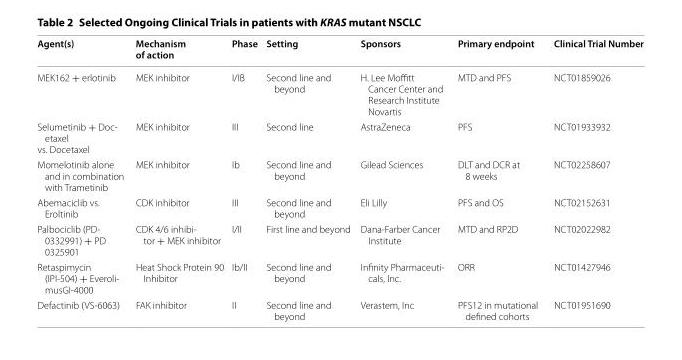table: (36, 36, 642, 321)
table column: (129, 36, 227, 321), (545, 36, 642, 321), (354, 36, 450, 321), (450, 36, 545, 321), (36, 36, 129, 321), (261, 36, 354, 321), (227, 36, 261, 321)
table column header: (36, 36, 642, 65)
table row: (36, 65, 642, 118), (36, 118, 642, 156), (36, 156, 642, 194), (36, 258, 642, 296), (36, 221, 642, 258), (36, 36, 642, 65), (36, 194, 642, 221), (36, 296, 642, 321)
